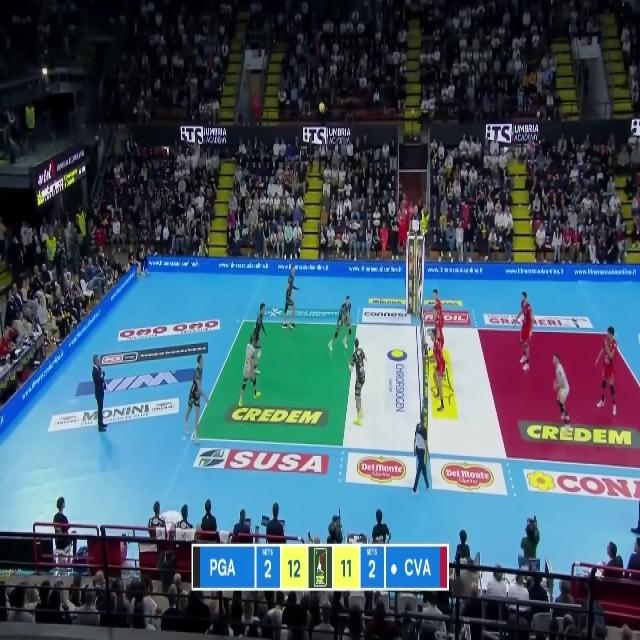volleyball court: (193, 318, 639, 472)
